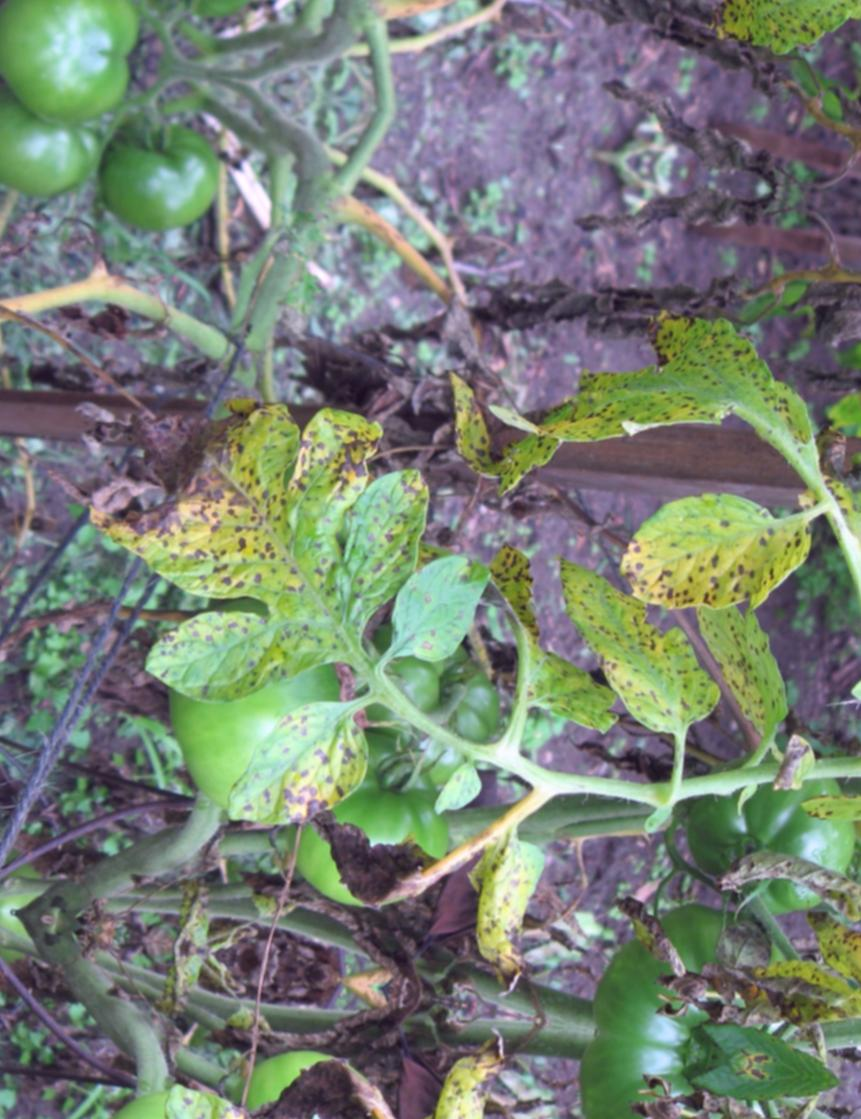Tomato Septoria leaf spot: (71, 351, 471, 727), (471, 240, 861, 566), (505, 548, 749, 761), (610, 451, 831, 640), (214, 679, 376, 863), (453, 808, 568, 1004)
